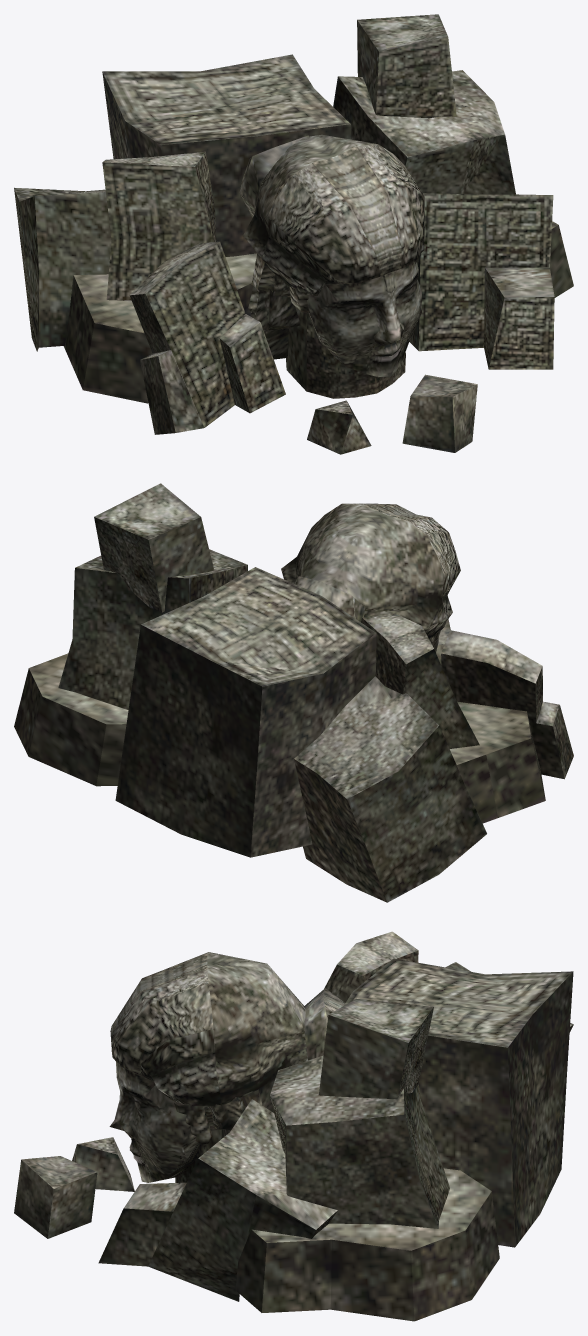
File: ob-bigstatue01.glb
3 views of the same model, one above another, from view 1: azimuth 30°, elevation 25°; view 2: azimuth 150°, elevation 25°; view 3: azimuth 270°, elevation 25° (orthographic). The views are drawn at different scales.
Parts seen in each view (by area): view 1: ob-bigstatue01-01, ob-bigstatue01-02; view 2: ob-bigstatue01-01, ob-bigstatue01-02; view 3: ob-bigstatue01-01, ob-bigstatue01-02.
Part boxes in pixels (x1,y1,x2,y2): ob-bigstatue01-01: (14, 14, 554, 454); ob-bigstatue01-02: (63, 37, 573, 427); ob-bigstatue01-01: (58, 483, 573, 902); ob-bigstatue01-02: (14, 567, 545, 857); ob-bigstatue01-01: (14, 931, 573, 1301); ob-bigstatue01-02: (235, 958, 573, 1321).
Size of the model in its own units: 11.2 by 6.4 by 10.85.
2 materials, 2 textured.
